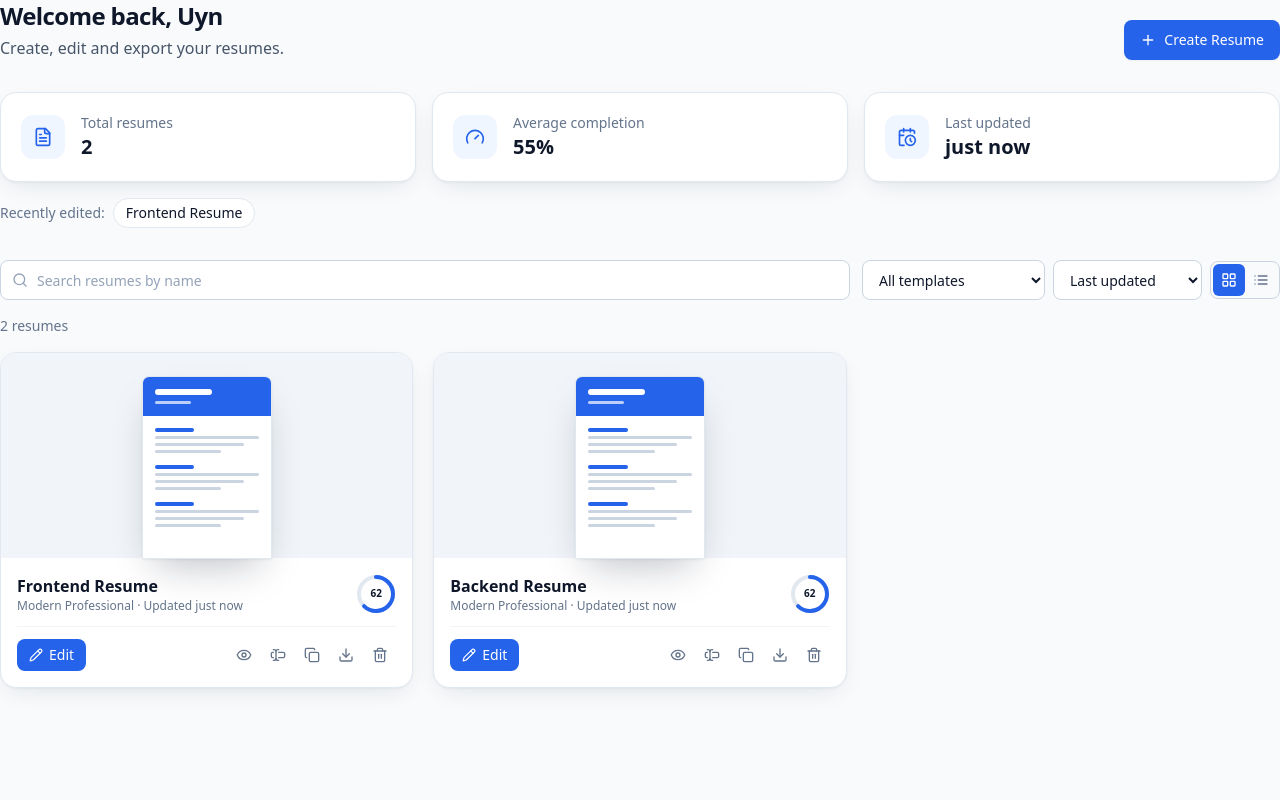
Scenario: dashboard › creates a resume from the dialog
Expected: the link "Backend Resume" is shown, 450,575 -> 587,597
Click the button "Create Resume": (1202, 40) 1124,20 -> 1279,60
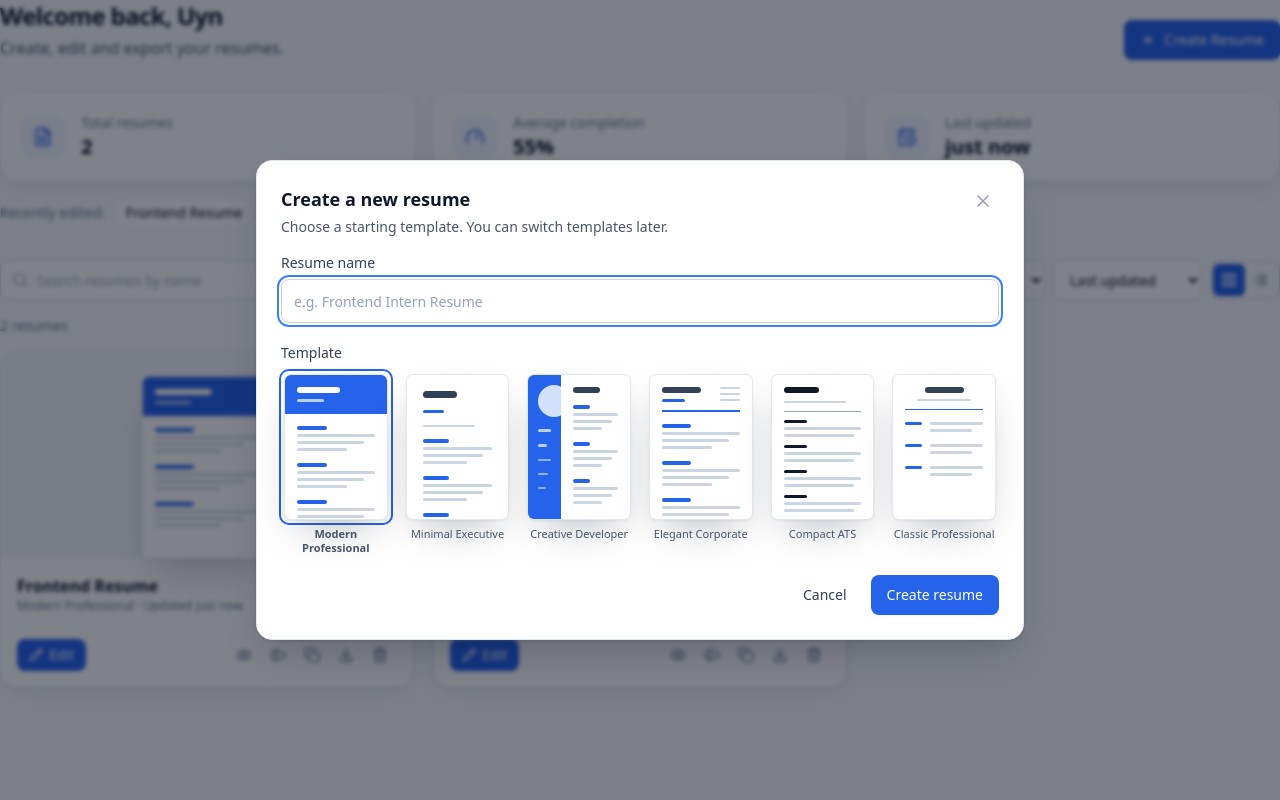
In the field labelled "Resume name": (640, 301) 281,279 -> 999,323, type "My CV"
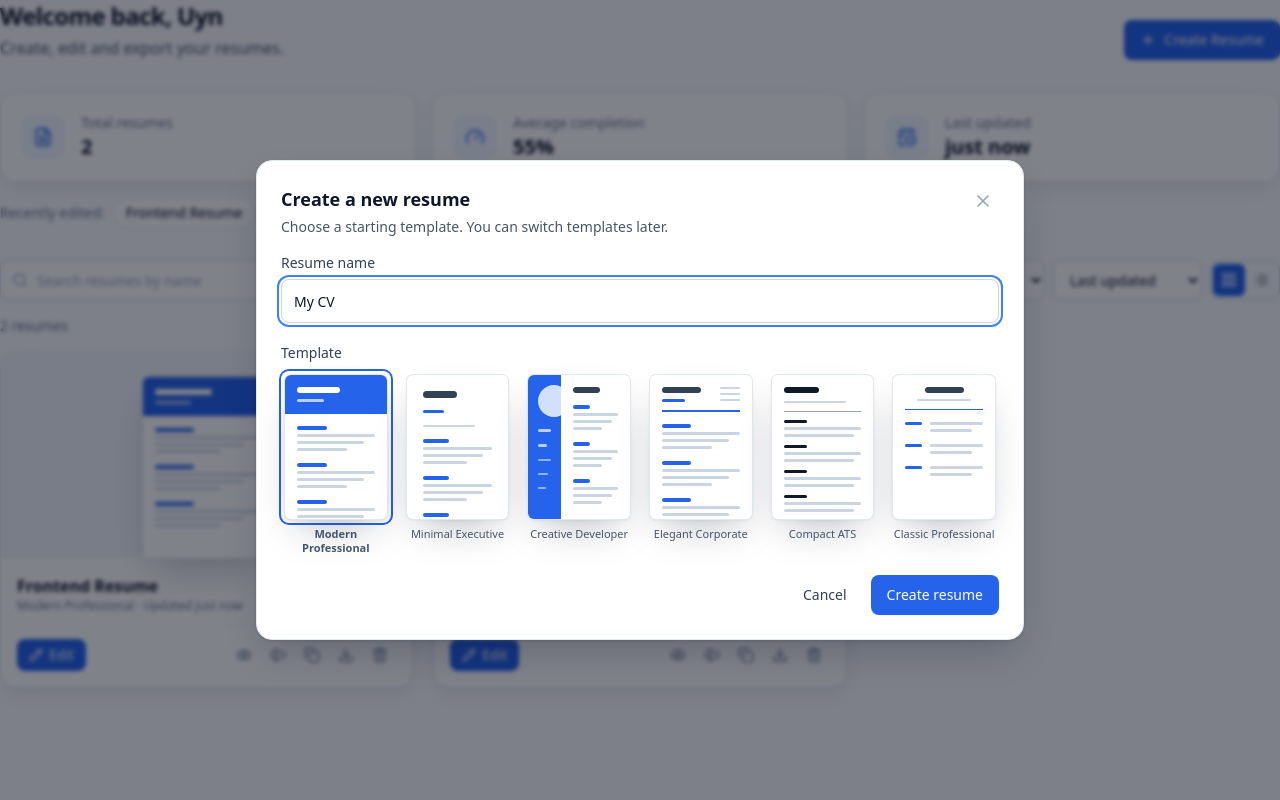
Click the radio button labelled "Compact ATS": (823, 463) 768,371 -> 877,555
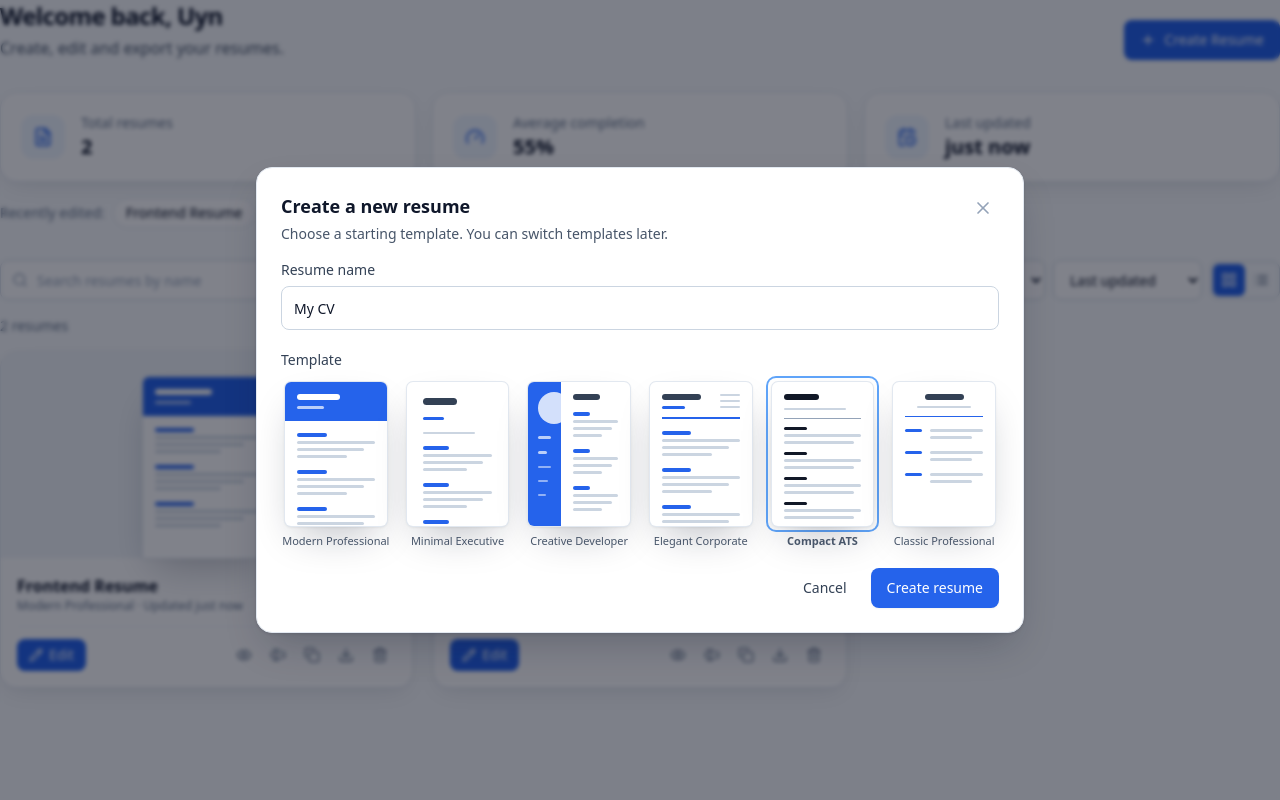
Click the button "Create resume": (935, 588) 871,568 -> 999,608
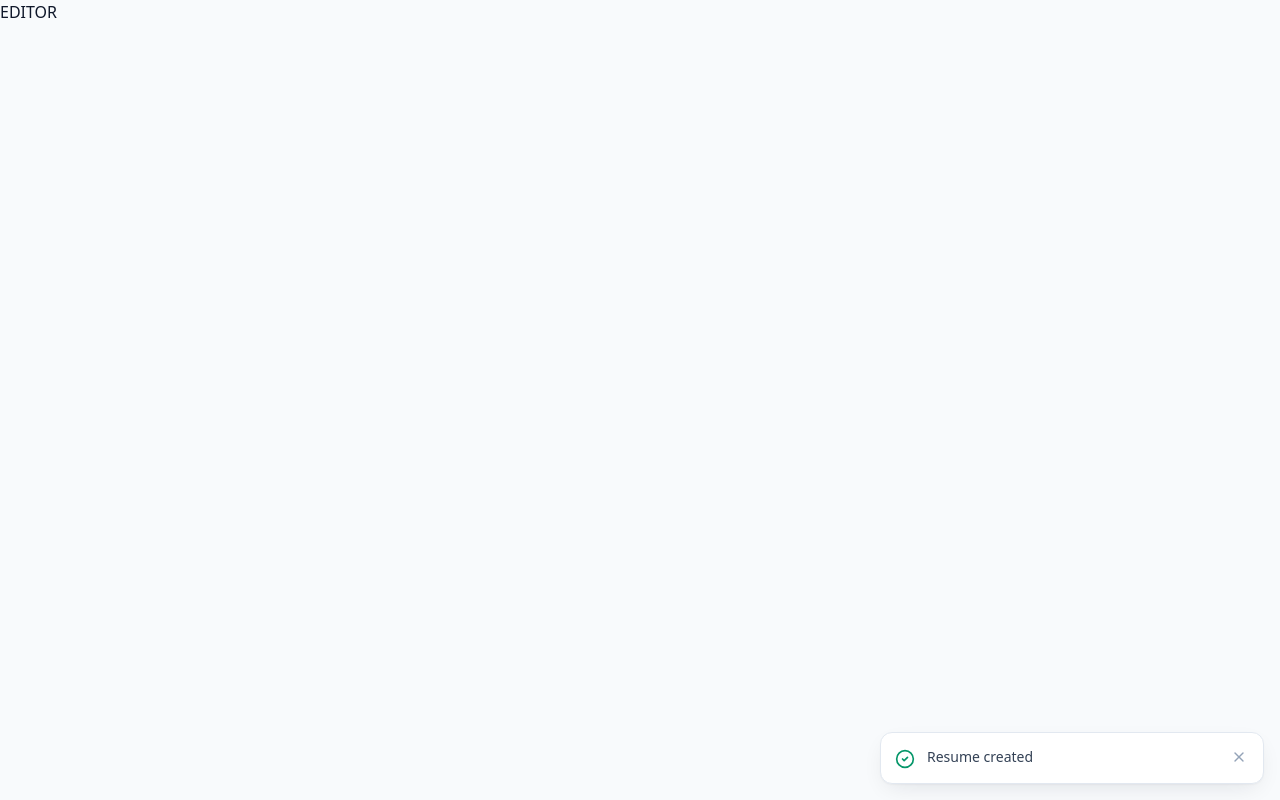
Now the text "EDITOR" is shown, box 0,1 -> 57,23
